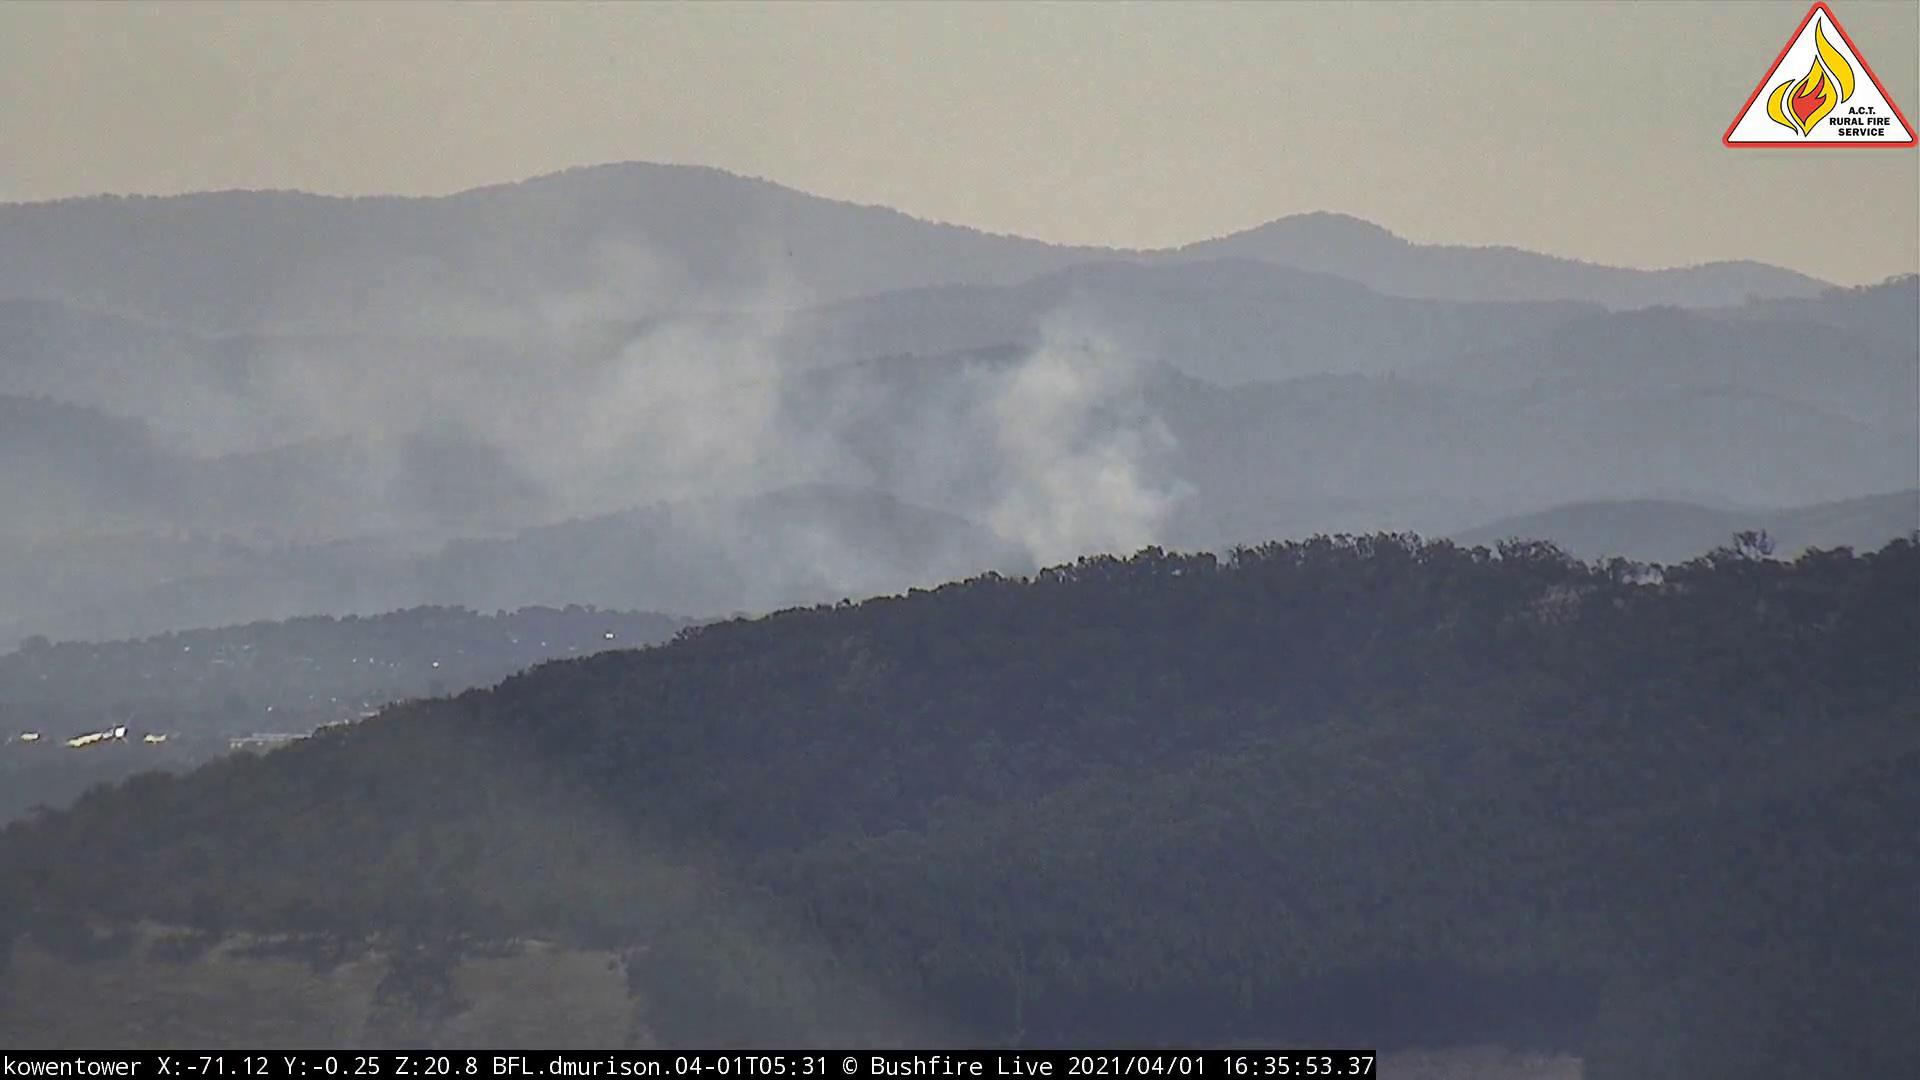Smoke: (138, 215, 1189, 644)
